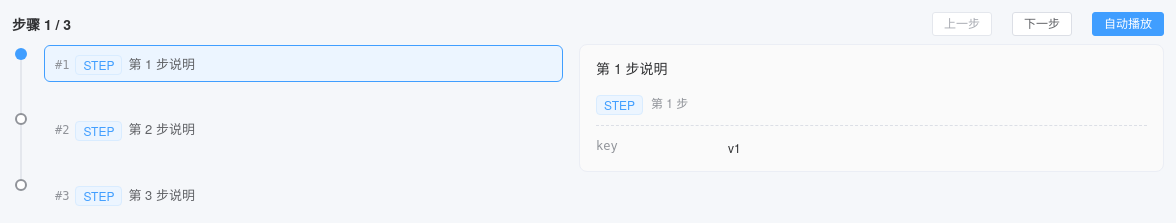
Scenario: StepTimeline › 下一步/上一步推进并更新指示
The width and height of the screenshot is (1176, 223).
Click the button with test id "step-next": point(1042, 24) left=1012, top=12, right=1072, bottom=36
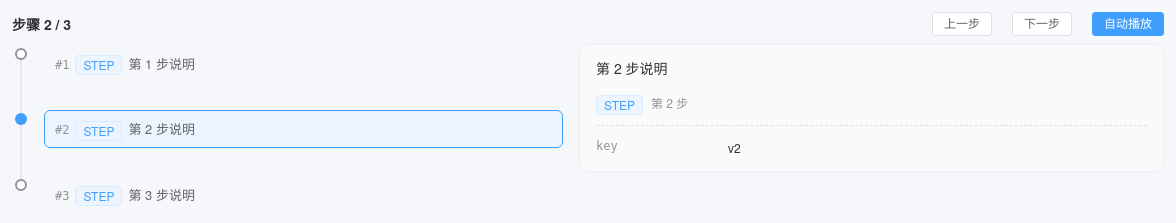
expect the text with test id "step-indicator" reads "步骤 2 / 3": met, box left=12, top=14, right=71, bottom=34
expect the text with test id "step-message" reads "第 2 步说明": met, box left=596, top=58, right=668, bottom=78
Click the button with test id "step-prev": point(962, 24) left=932, top=12, right=992, bottom=36
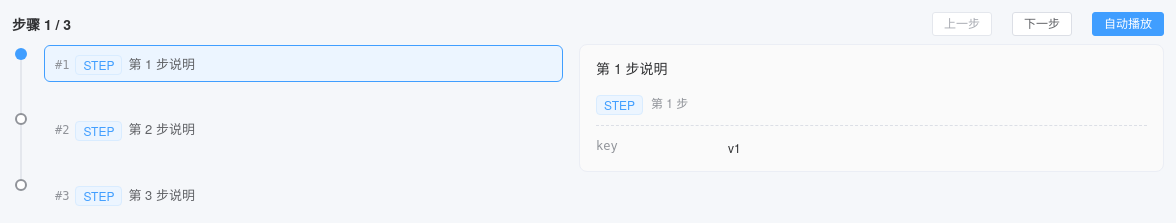
expect the text with test id "step-indicator" reads "步骤 1 / 3": met, box left=12, top=14, right=71, bottom=34
